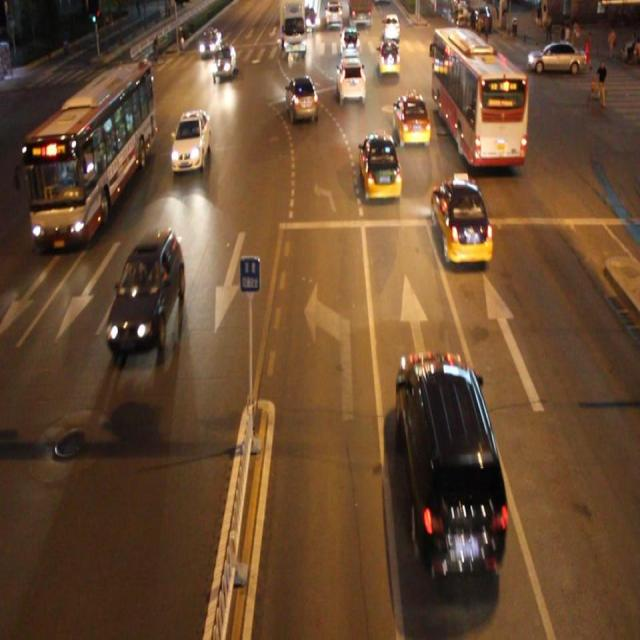car: (396, 351, 505, 579), (107, 229, 184, 354), (432, 178, 492, 265), (356, 134, 401, 200), (171, 109, 210, 170), (393, 91, 430, 147), (287, 76, 318, 123), (335, 58, 366, 103)
van: (26, 61, 153, 246), (432, 26, 526, 168)
